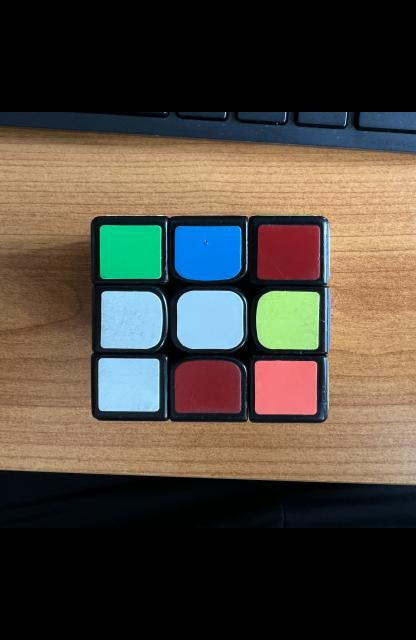Blue: (173, 226, 240, 281)
Green: (98, 225, 160, 279)
Orange: (254, 360, 317, 415)
Red: (173, 360, 240, 413), (256, 225, 319, 280)
White: (176, 291, 243, 349), (99, 291, 162, 349), (97, 358, 159, 412)
Yellow: (256, 291, 319, 349)
